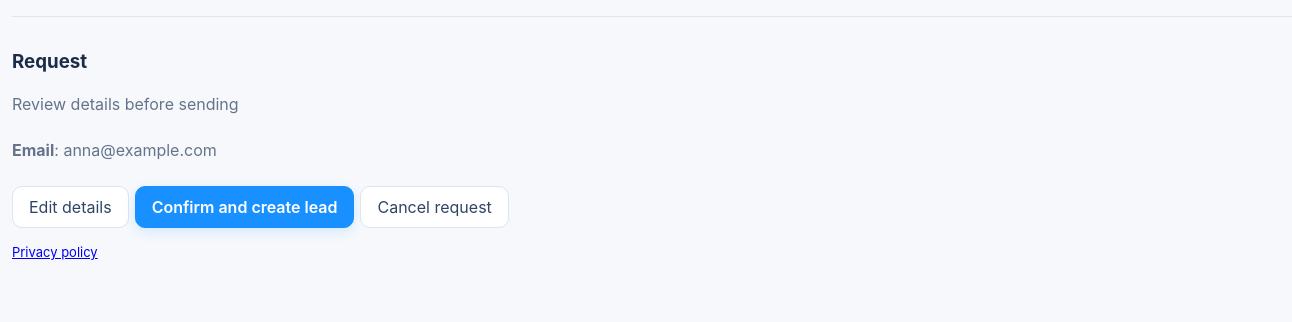
Test case: requires a separate staff confirmation and sends the version actually displayed
Check: the text "Email: anna@example.com" is shown, box [12,140,217,160]
Click the button "Confirm and create lead" at (244, 207), box [135,186,354,228]
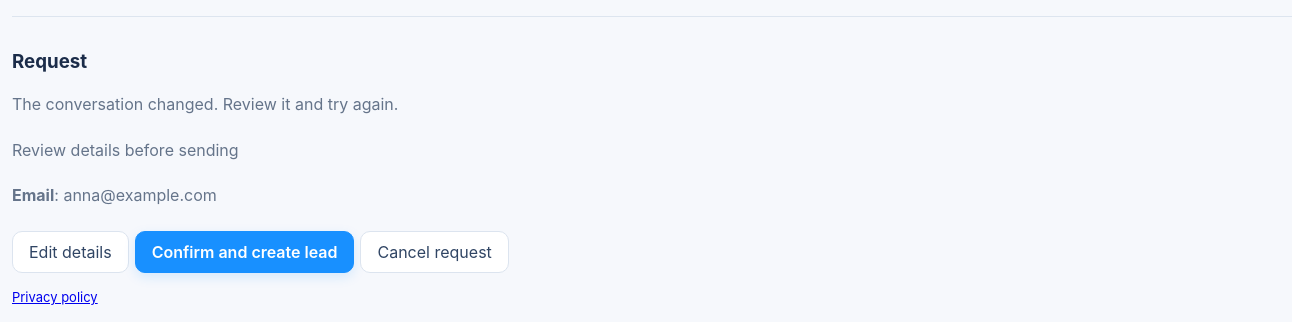
Check: the text "Email: anna@example.com" is shown, box [12,185,217,205]
Check: the message "The conversation changed. Review it and try again." is shown, box [12,94,398,114]
